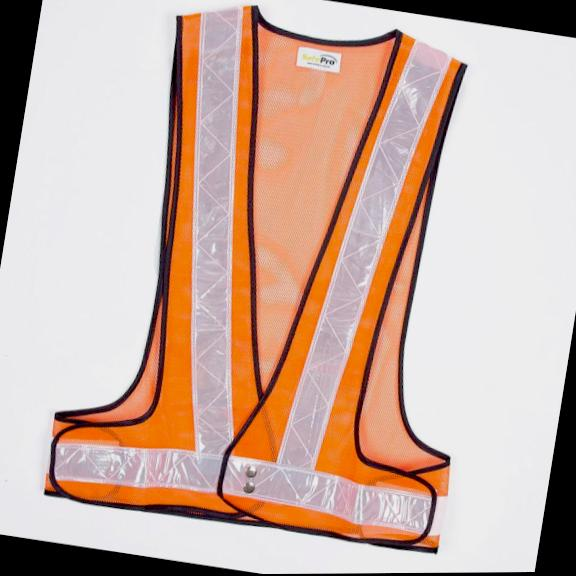safety_vest: (36, 0, 520, 564)
